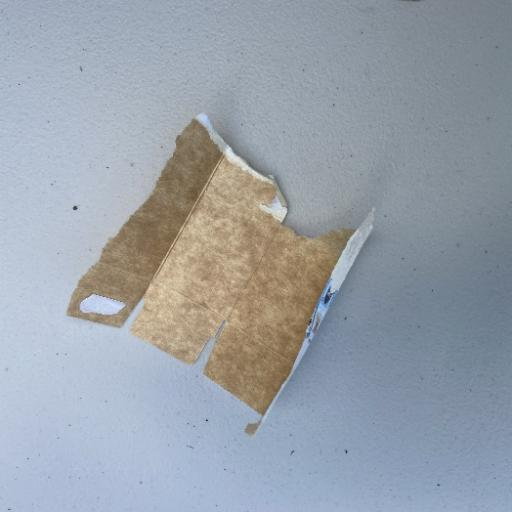Cardboard: (65, 110, 376, 434)
